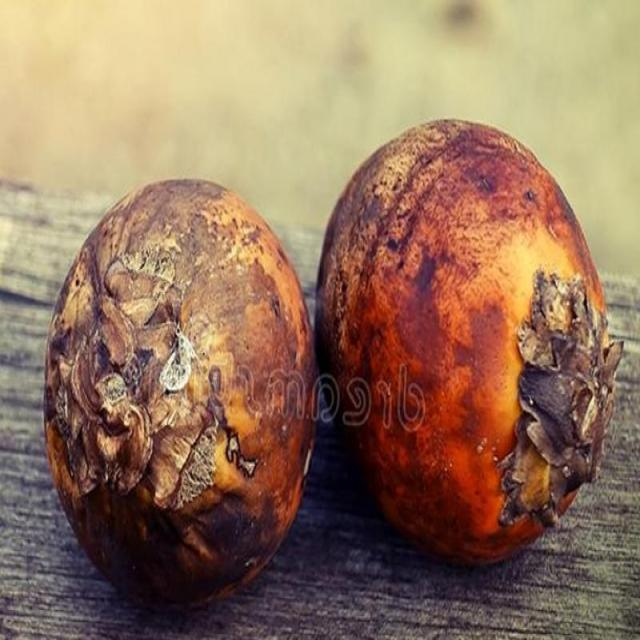damaged: (314, 119, 623, 569), (42, 181, 318, 610)
